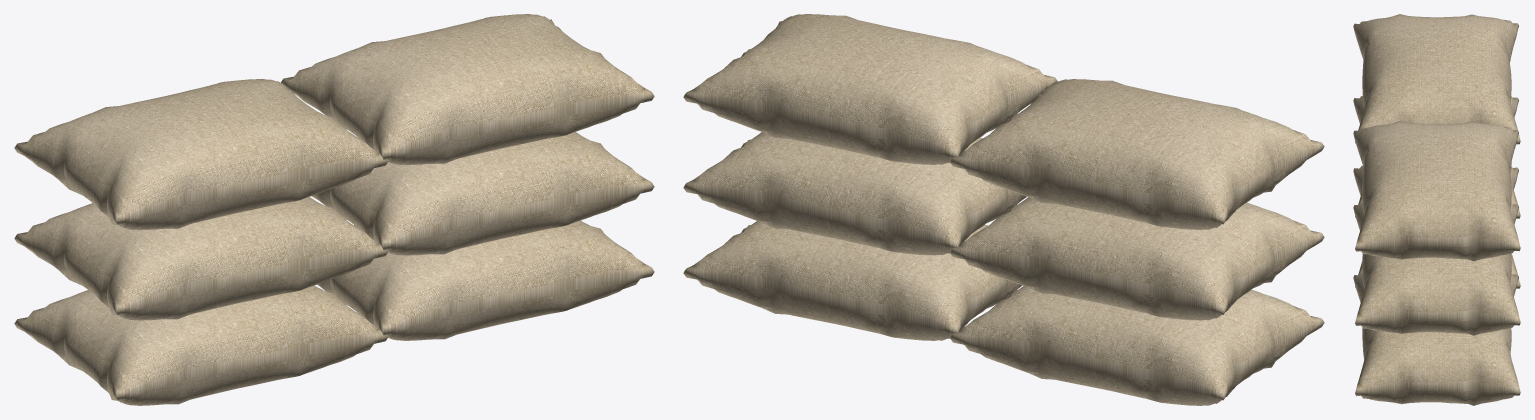
Rendered from bag2.obj.
3 views of the same model, side by side, from view 1: azimuth 30°, elevation 25°; view 2: azimuth 150°, elevation 25°; view 3: azimuth 270°, elevation 25° (orthographic). The views are drawn at different scales.
Visible parts, largest first — view 1: Plane.001; view 2: Plane.001; view 3: Plane.001.
Part boxes in pixels (x1,y1,x2,y2): Plane.001: (14,14,654,405); Plane.001: (683,14,1324,405); Plane.001: (1353,14,1520,405).
Size of the model in its own units: 5.52 by 2.62 by 1.8.
